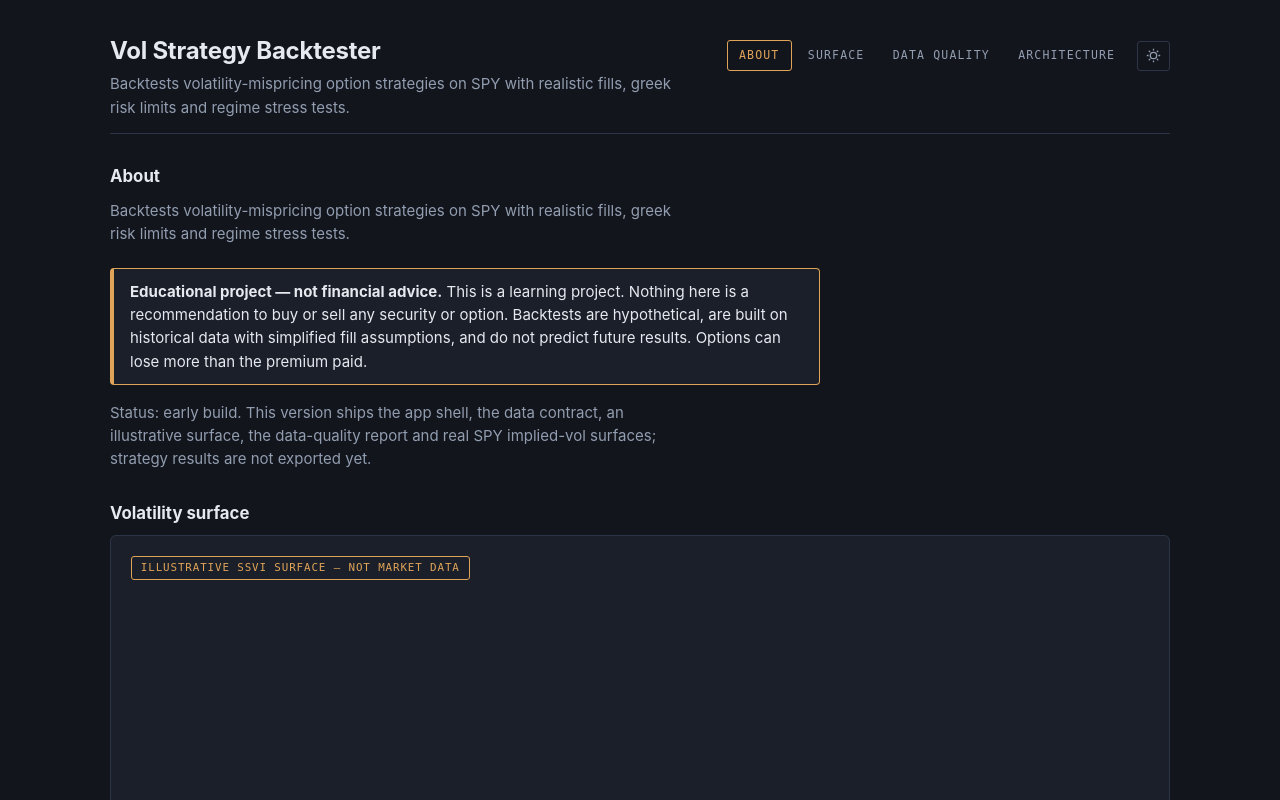
Scenario: App (integration) › navigates to the Architecture tab without refetching the data
Check: the text "Illustrative SSVI surface — not market data" is shown, box [131,556,470,580]
Click the link "Architecture": (1067, 55) [1018,48,1115,62]
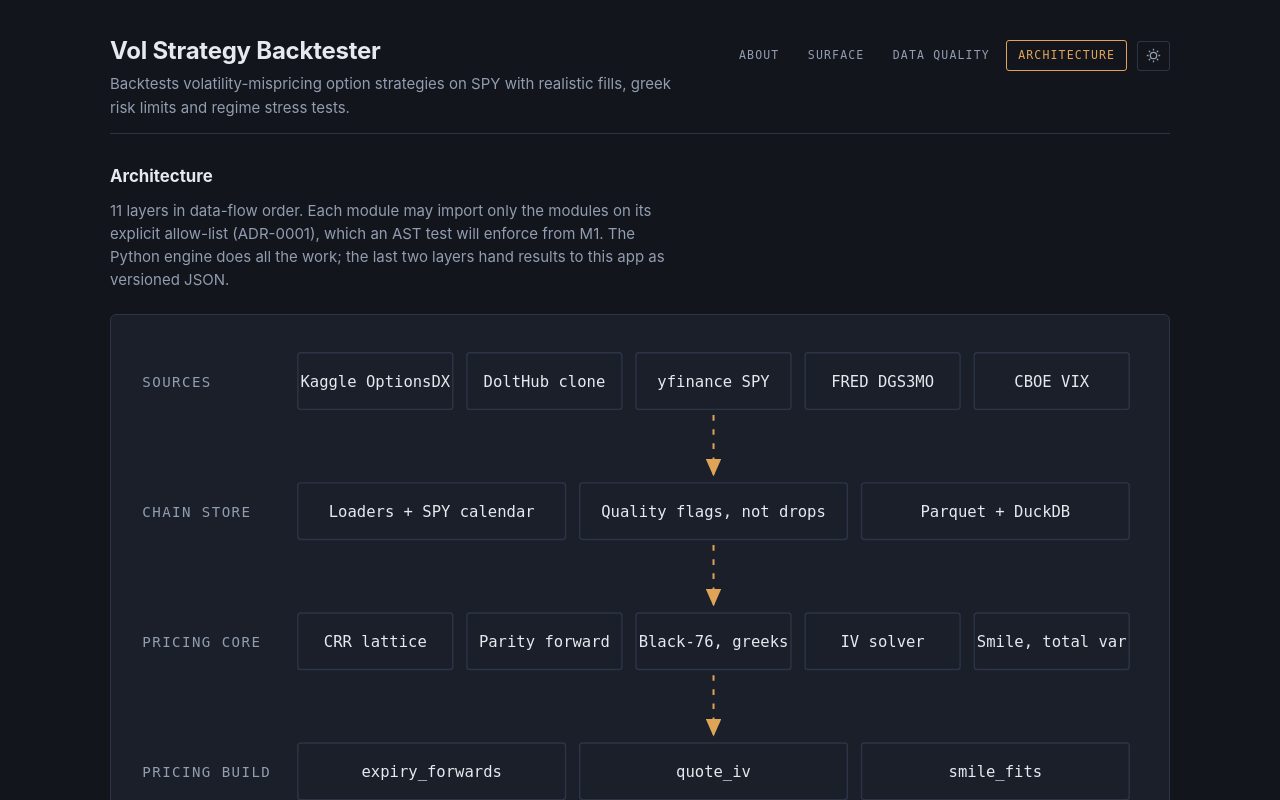
Check: the text "Illustrative SSVI surface — not market data" is gone
# and back again: the loaded data is still there
Click the link "About": (759, 55) [739,48,779,62]
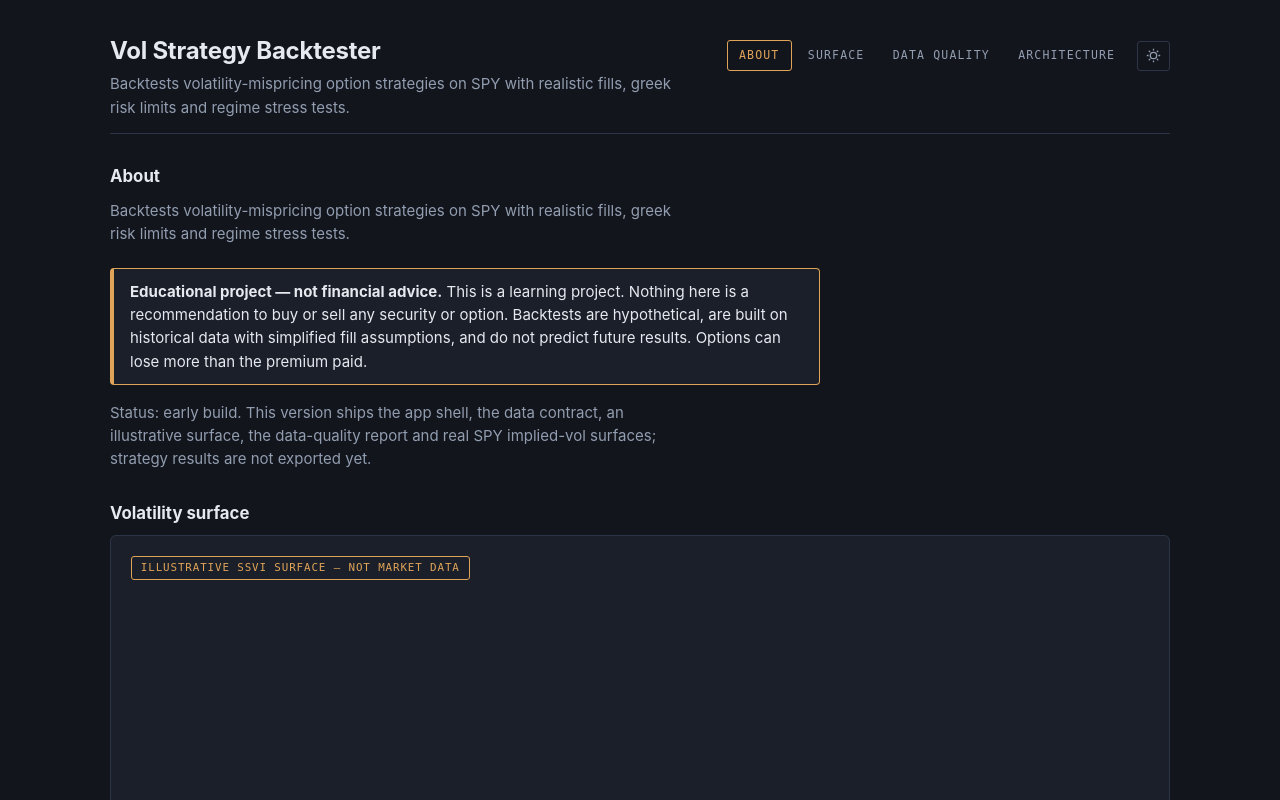
Check: the text "Illustrative SSVI surface — not market data" is shown, box [131,556,470,580]
